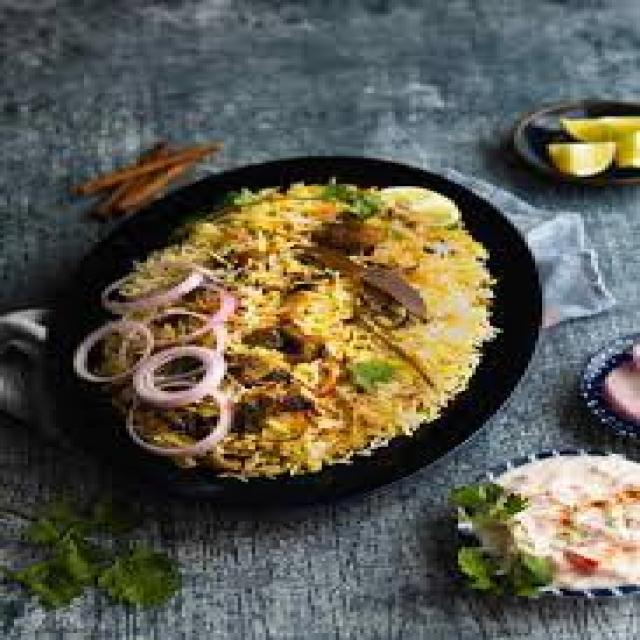chicken biryani: (157, 245, 462, 455)
